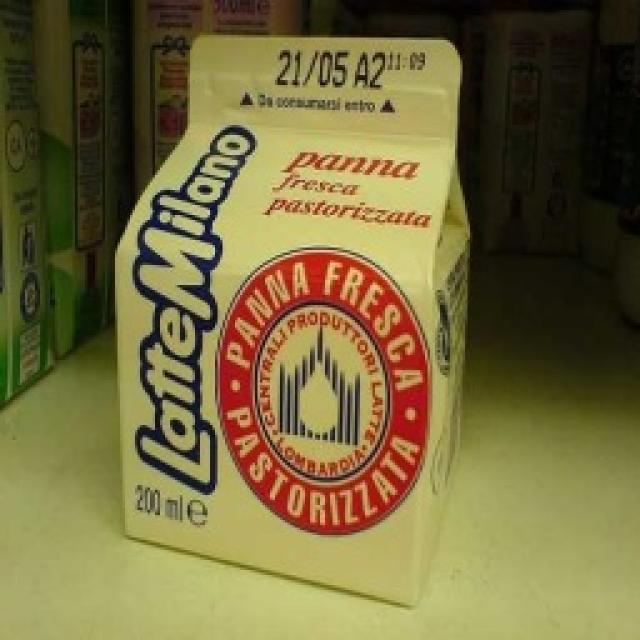box: (122, 25, 485, 618), (130, 2, 312, 166), (496, 7, 592, 268), (0, 0, 55, 414), (60, 1, 110, 350)
